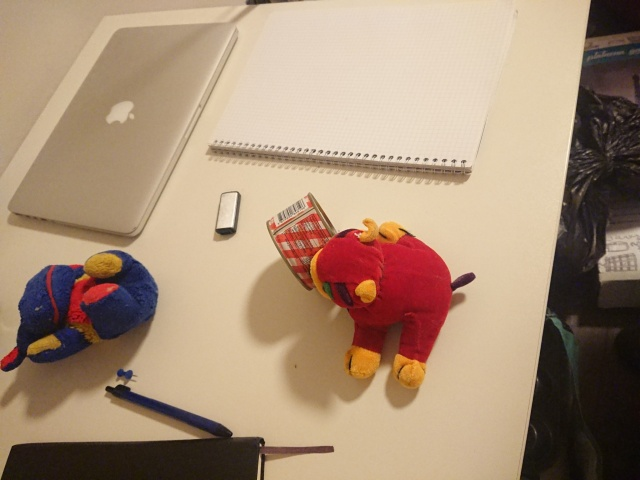Podravka Luncheon Meat 150g: (263, 189, 356, 294)
